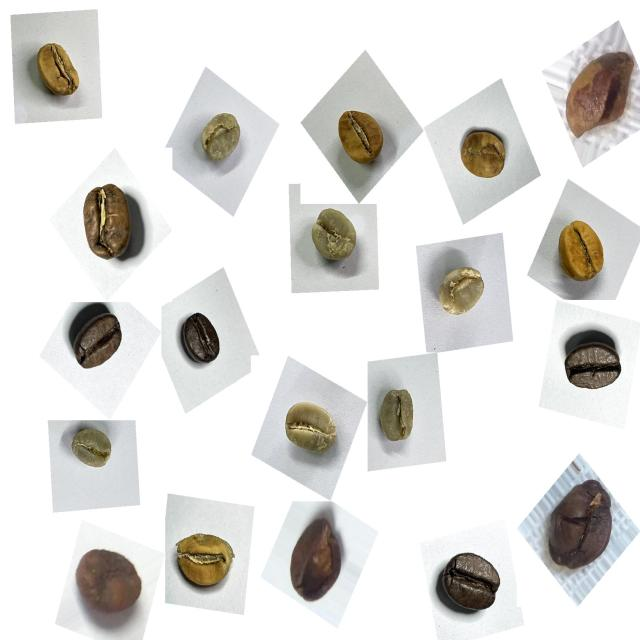bad: (538, 472, 626, 585), (555, 42, 637, 146), (277, 510, 353, 614), (71, 536, 153, 630)
dark: (433, 536, 513, 627), (554, 324, 631, 407), (65, 306, 134, 385), (174, 303, 232, 376)
green: (276, 388, 347, 468), (301, 202, 370, 279), (428, 255, 494, 330), (370, 378, 430, 456), (190, 104, 251, 177), (64, 422, 122, 482)
light: (170, 520, 246, 602), (548, 210, 617, 294), (327, 100, 394, 178), (27, 33, 92, 112), (452, 121, 516, 193)
medium: (69, 176, 145, 271)
